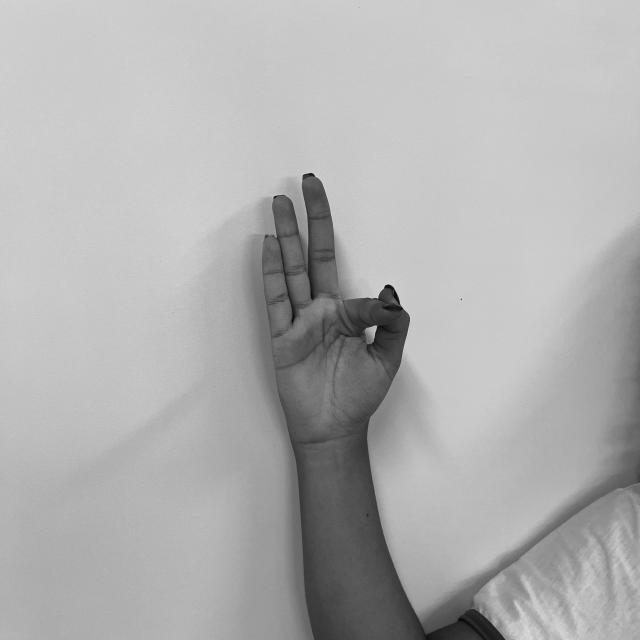Letra F: (255, 168, 416, 450)
